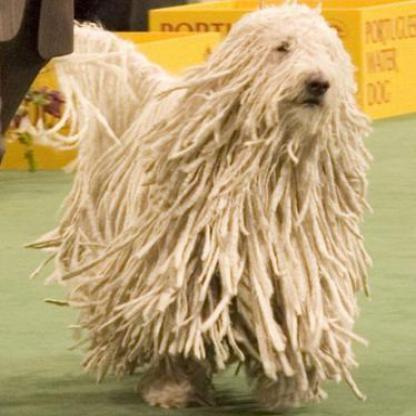komondor: (25, 0, 375, 413)
